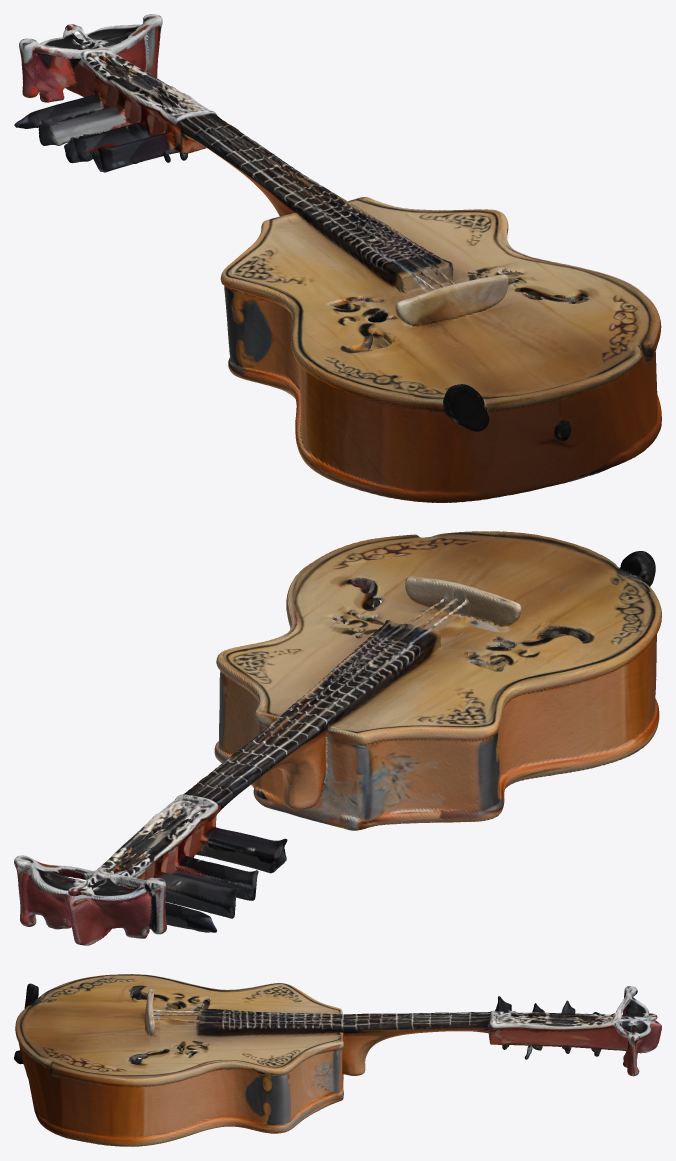
Rendered from huobusi.glb.
3 views of the same model, one above another, from view 1: azimuth 30°, elevation 25°; view 2: azimuth 150°, elevation 25°; view 3: azimuth 270°, elevation 25° (orthographic). The views are drawn at different scales.
Visible parts, largest first — view 1: tripo_node_28c3a93e-0acd-463f-ad24-301aef0dc885; view 2: tripo_node_28c3a93e-0acd-463f-ad24-301aef0dc885; view 3: tripo_node_28c3a93e-0acd-463f-ad24-301aef0dc885.
Part boxes in pixels (bbox=[...]): tripo_node_28c3a93e-0acd-463f-ad24-301aef0dc885: bbox=[14, 14, 661, 502]; tripo_node_28c3a93e-0acd-463f-ad24-301aef0dc885: bbox=[14, 531, 661, 945]; tripo_node_28c3a93e-0acd-463f-ad24-301aef0dc885: bbox=[14, 974, 661, 1146].
Size of the model in its own units: 39.91 by 16.1 by 102.
Materials: 1 (1 with a texture image).
